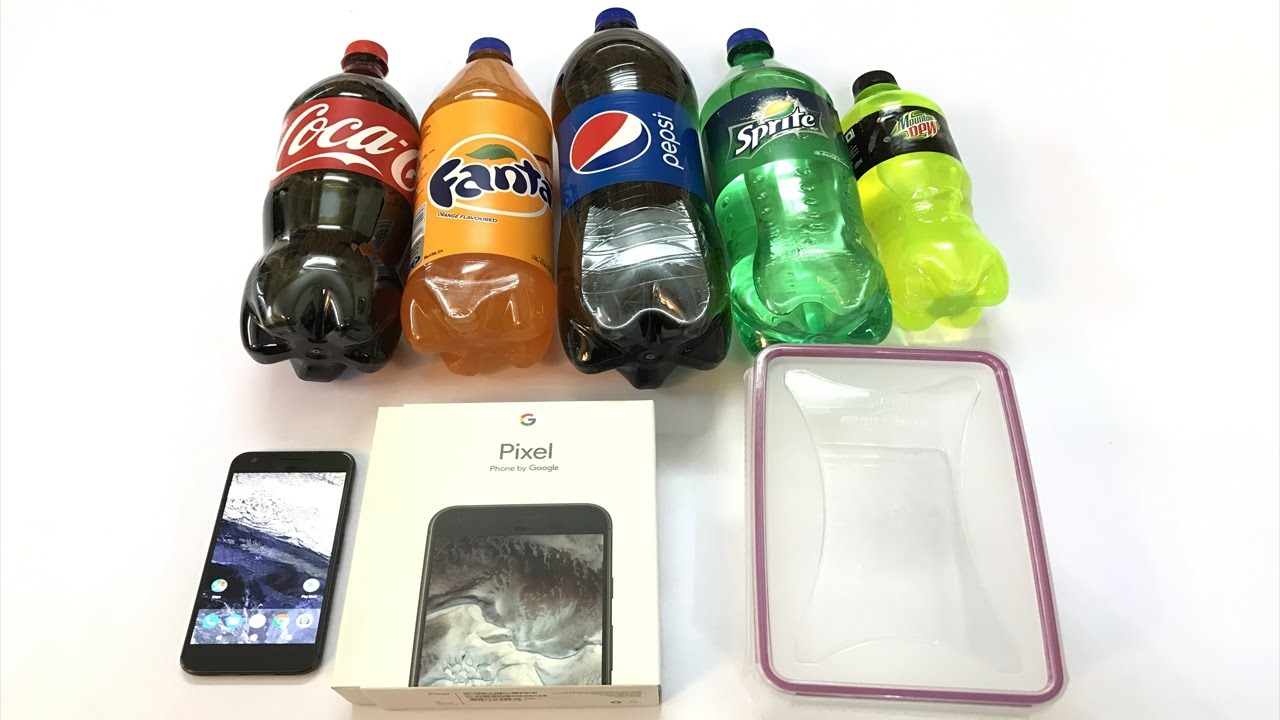pepsi: (565, 109, 655, 175), (565, 109, 649, 175), (565, 115, 655, 175)
